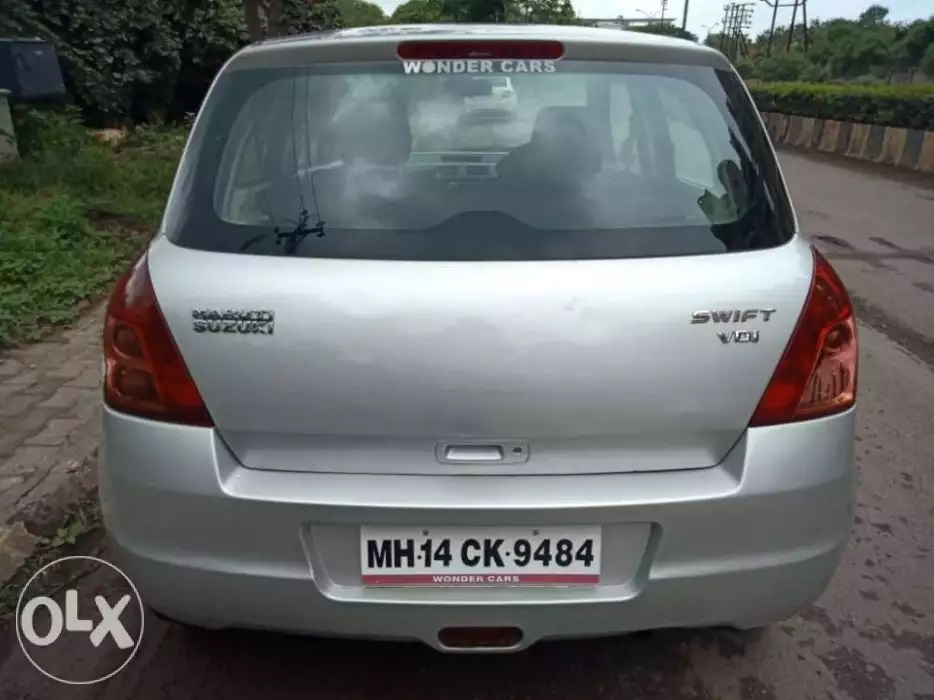licenseplate: (358, 521, 605, 590)
